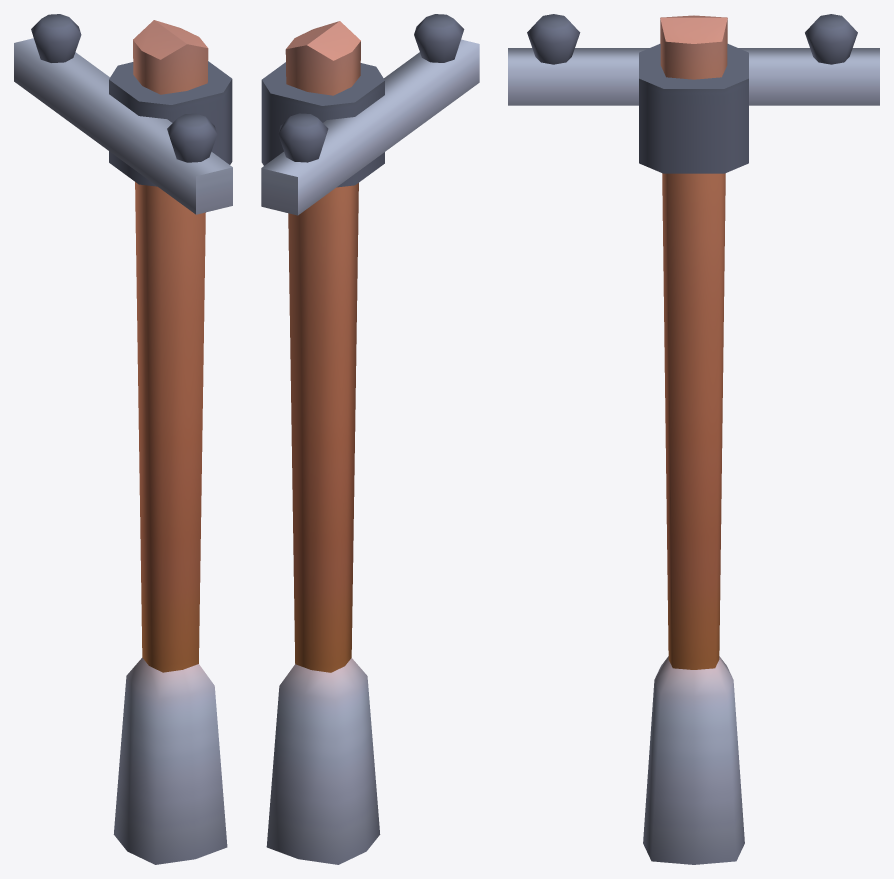
The model's file is road_electricity_pole_single.glb.
3 views of the same model, side by side, from view 1: azimuth 30°, elevation 25°; view 2: azimuth 150°, elevation 25°; view 3: azimuth 270°, elevation 25° (orthographic). The views are drawn at different scales.
Visible parts, largest first — view 1: electricity-pole-single; view 2: electricity-pole-single; view 3: electricity-pole-single.
Boxes of the visible parts, <box> form: electricity-pole-single: <box>14,14,232,864</box>; electricity-pole-single: <box>261,14,479,864</box>; electricity-pole-single: <box>508,14,879,864</box>.
Bounding box in the file's own units: 0.0791 × 0.525 × 0.2142.
Materials: 1 (1 with a texture image).
